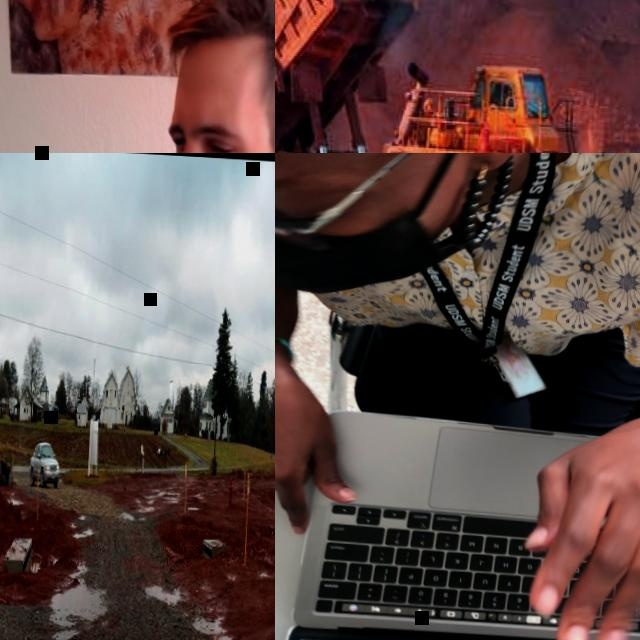Mask: (275, 153, 496, 306)
NO-Hardhat: (175, 0, 275, 102)
NO-Safety Vest: (328, 153, 640, 362)
Person: (275, 153, 640, 640), (30, 0, 275, 153)
machinery: (275, 0, 596, 153)
vehicle: (28, 439, 60, 487)
